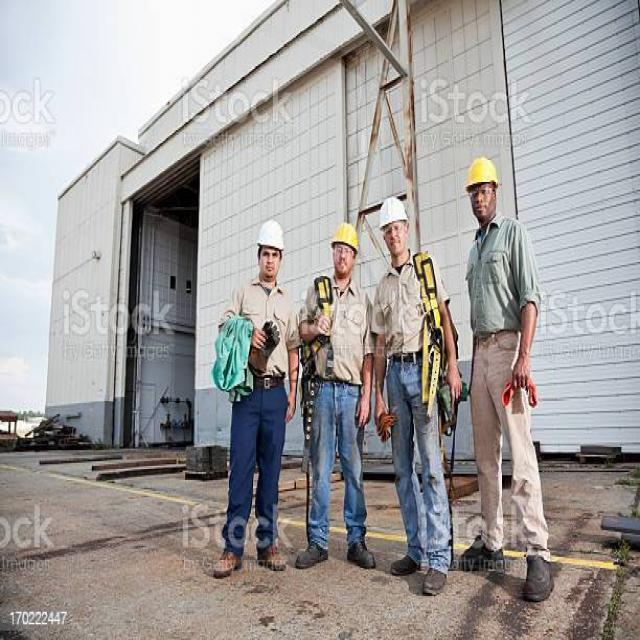belt: (409, 238, 466, 433), (298, 270, 334, 402)
